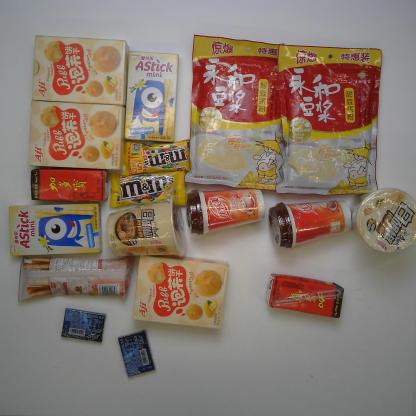Chocolate: (110, 172, 189, 208), (122, 140, 194, 176)
Dessert: (132, 255, 229, 329), (29, 99, 126, 172), (32, 35, 129, 107), (18, 256, 133, 302), (8, 201, 103, 256), (123, 50, 179, 142)
Drink: (265, 274, 344, 320), (30, 166, 110, 201)
Gum: (118, 330, 156, 377), (60, 308, 107, 343)
Instant Drink: (183, 34, 291, 192), (275, 44, 382, 195), (268, 200, 352, 249), (186, 188, 266, 236)
Instant Noodles: (107, 194, 188, 257), (351, 187, 416, 253)
